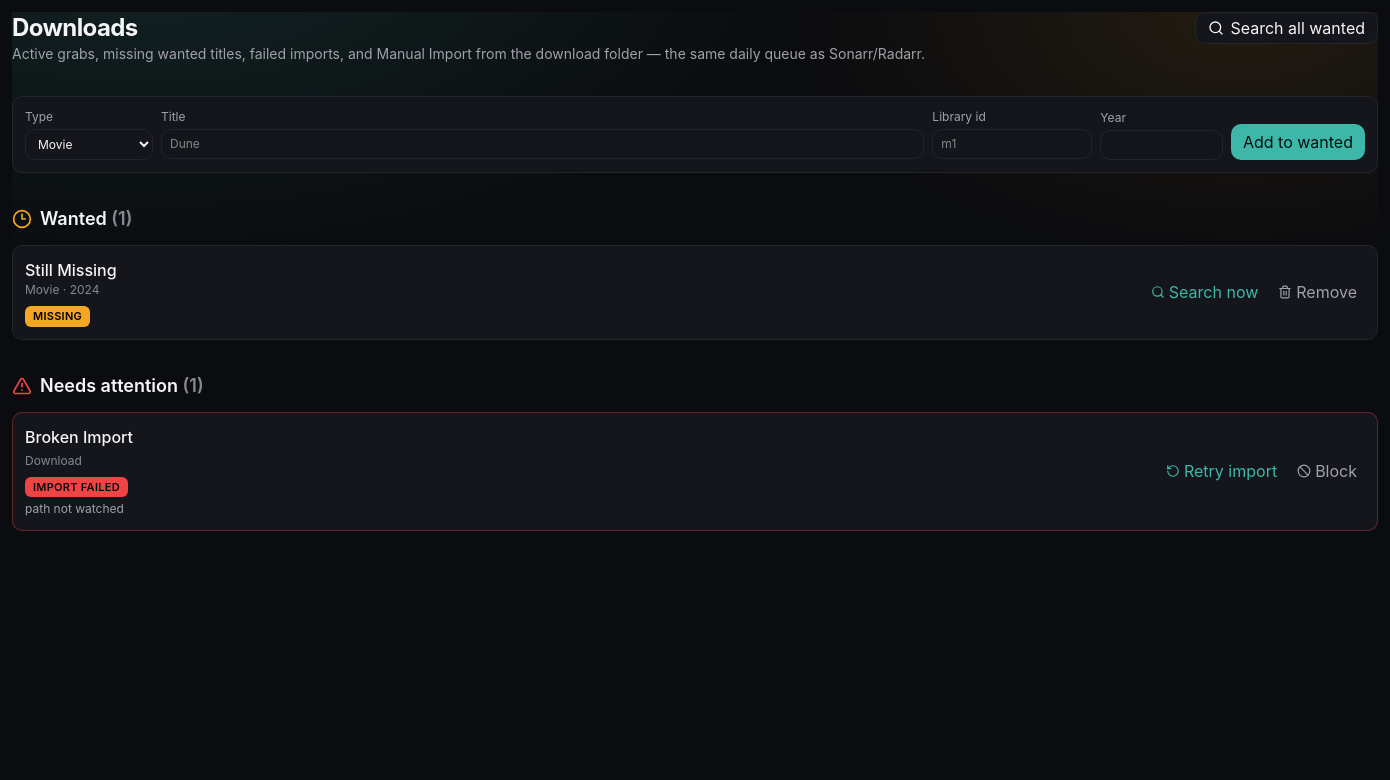
Test case: Activity page › lists missing wanted titles and retries a failed import
The width and height of the screenshot is (1390, 780).
Expected: the element with test id "activity-wanted" is shown, [12, 205, 1378, 340]
Expected: the link "Still Missing" is shown, [25, 260, 117, 280]
Click the button "Retry import": x=1222, y=471 [1158, 455, 1285, 487]
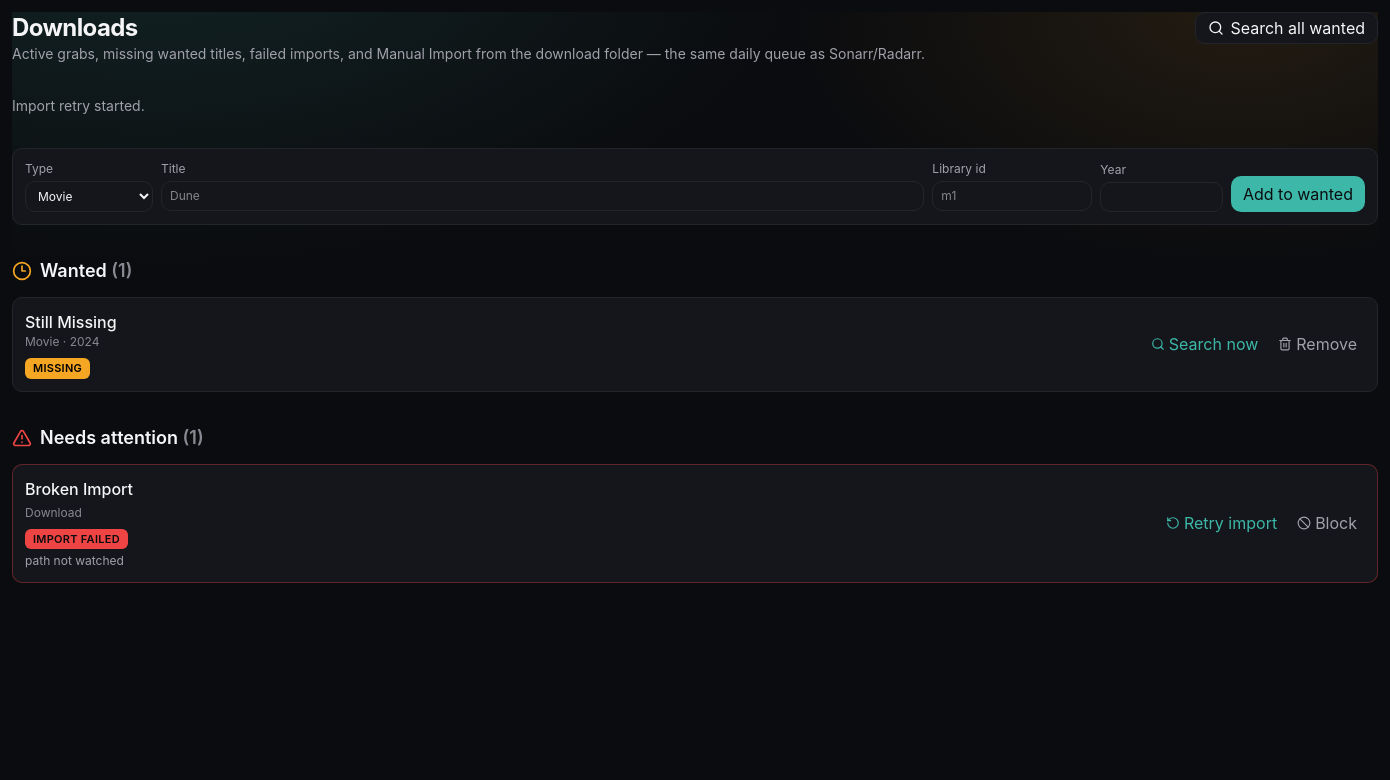
Result: the text with test id "activity-flash" shows "Import retry" at [12, 97, 145, 114]
